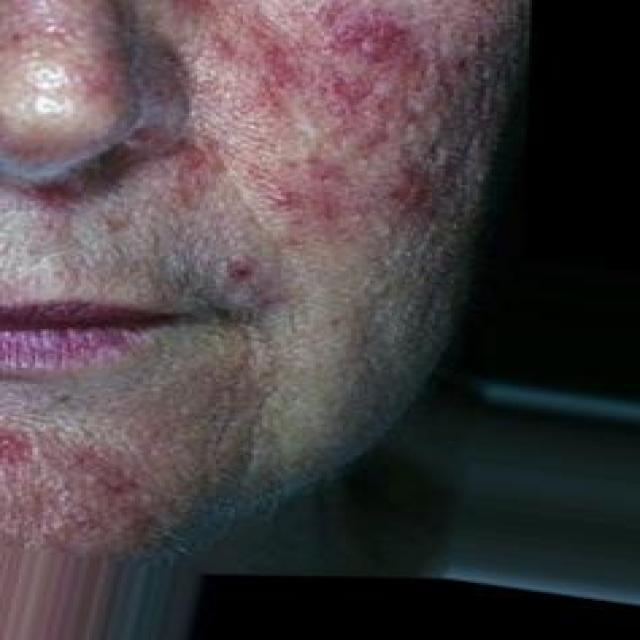Rosacea: (128, 0, 439, 246), (0, 427, 165, 566), (0, 0, 127, 120)
